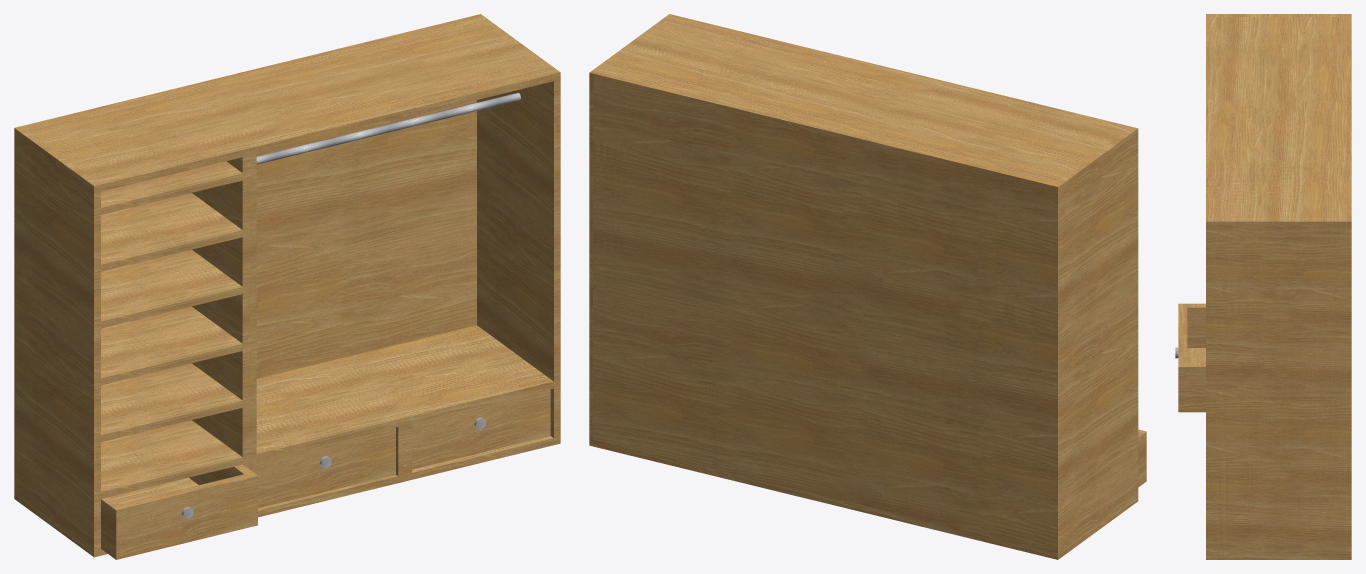
The model's file is closet_body.dae.
3 renders of one model, left to right at view 1: azimuth 30°, elevation 25°; view 2: azimuth 150°, elevation 25°; view 3: azimuth 270°, elevation 25°, orthographic. The views are drawn at different scales.
Visible parts, largest first — view 1: Closet (×5), box_01 (×4), group_4, group_0, group_1, group_3, group_5, group_2, dress_closet, group_6; view 2: Closet, dress_closet; view 3: Closet (×2), box_01 (×2), dress_closet.
Part boxes in pixels (<box>): Closet (×5): <box>14,14,560,550</box>; box_01 (×4): <box>101,389,550,559</box>; group_4: <box>256,325,553,460</box>; group_0: <box>101,306,242,385</box>; group_1: <box>101,363,242,442</box>; group_3: <box>101,193,242,271</box>; group_5: <box>101,420,242,498</box>; group_2: <box>101,249,242,328</box>; dress_closet: <box>14,436,560,557</box>; group_6: <box>101,161,242,214</box>; Closet: <box>589,14,1138,552</box>; dress_closet: <box>589,438,1138,559</box>; Closet (×2): <box>1206,14,1351,553</box>; box_01 (×2): <box>1178,303,1205,412</box>; dress_closet: <box>1206,553,1351,559</box>.
Size of the model in its own units: 100 by 35.95 by 76.13.
5 materials, 4 textured.
